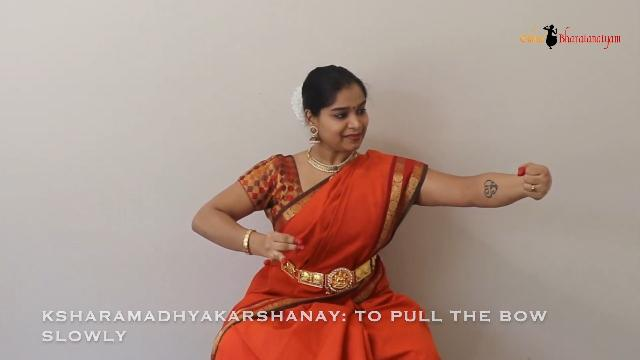mushti: (501, 144, 573, 236)
